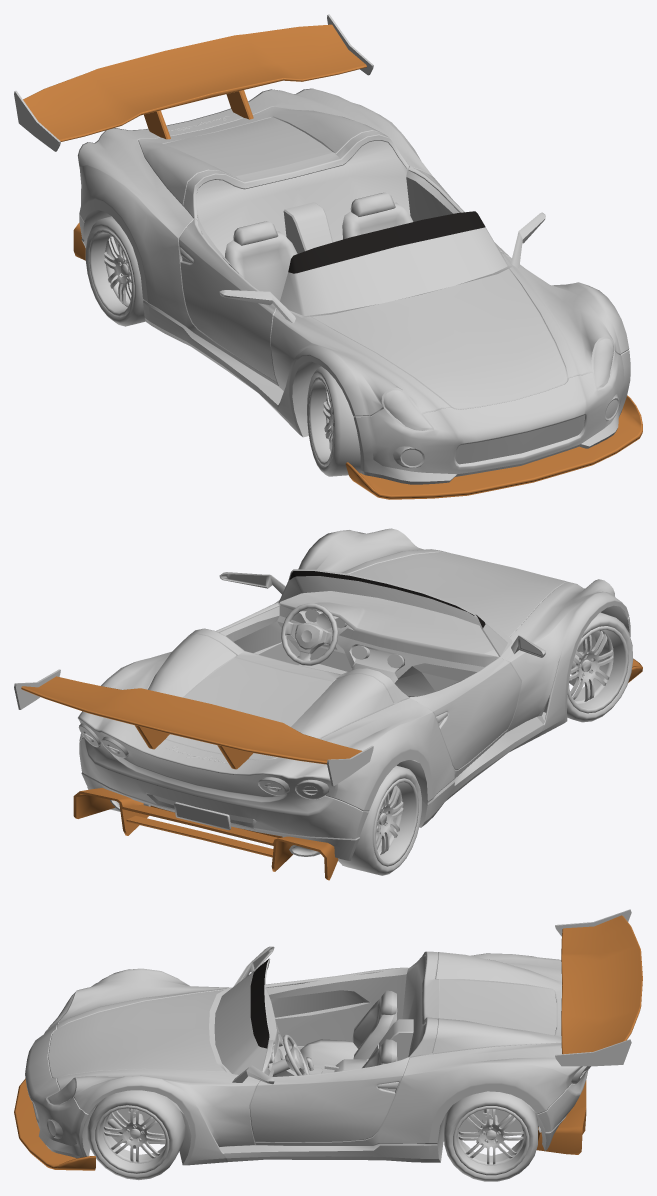
The model's file is auto.obj.
3 renders of one model, top to bottom at view 1: azimuth 30°, elevation 25°; view 2: azimuth 150°, elevation 25°; view 3: azimuth 270°, elevation 25°, orthographic. The views are drawn at different scales.
Parts seen in each view (by area): view 1: node_id107_mesh_id108, node_id100_mesh_id101, node_id125_mesh_id126, node_id129_mesh_id130, node_id55_mesh_id56, node_id44_mesh_id45, node_id109_mesh_id110, node_id123_mesh_id124, node_id93_mesh_id94, node_id113_mesh_id114, node_id90_mesh_id91, node_id86_mesh_id87 (+4 smaller); view 2: node_id107_mesh_id108, node_id100_mesh_id101, node_id125_mesh_id126, node_id129_mesh_id130, node_id57_mesh_id58, node_id109_mesh_id110, node_id86_mesh_id87, node_id93_mesh_id94, node_id46_mesh_id47, node_id127_mesh_id128, node_id97_mesh_id98, node_id102_mesh_id103 (+5 smaller); view 3: node_id107_mesh_id108, node_id129_mesh_id130, node_id100_mesh_id101, node_id125_mesh_id126, node_id109_mesh_id110, node_id44_mesh_id45, node_id79_mesh_id80, node_id72_mesh_id73, node_id55_mesh_id56, node_id76_mesh_id77, node_id83_mesh_id84, node_id102_mesh_id103 (+7 smaller).
Boxes of the visible parts, x1,y1,x2,y2 form: node_id107_mesh_id108: (77, 88, 630, 484); node_id100_mesh_id101: (23, 24, 366, 141); node_id125_mesh_id126: (163, 117, 613, 430); node_id129_mesh_id130: (196, 140, 459, 279); node_id55_mesh_id56: (345, 395, 642, 499); node_id44_mesh_id45: (225, 192, 413, 300); node_id109_mesh_id110: (81, 106, 615, 467); node_id123_mesh_id124: (288, 211, 485, 273); node_id93_mesh_id94: (89, 229, 134, 317); node_id113_mesh_id114: (455, 415, 584, 464); node_id90_mesh_id91: (315, 366, 361, 476); node_id86_mesh_id87: (309, 376, 334, 466); node_id107_mesh_id108: (78, 528, 630, 838); node_id100_mesh_id101: (21, 676, 361, 769); node_id125_mesh_id126: (184, 569, 507, 726); node_id129_mesh_id130: (220, 605, 496, 697); node_id57_mesh_id58: (73, 788, 338, 880); node_id109_mesh_id110: (81, 551, 629, 860); node_id86_mesh_id87: (567, 626, 628, 713); node_id93_mesh_id94: (373, 778, 418, 866); node_id46_mesh_id47: (281, 603, 338, 665); node_id127_mesh_id128: (78, 723, 328, 799); node_id97_mesh_id98: (338, 765, 416, 875); node_id102_mesh_id103: (14, 669, 373, 786); node_id107_mesh_id108: (25, 951, 588, 1165); node_id129_mesh_id130: (265, 956, 425, 1076); node_id100_mesh_id101: (561, 915, 642, 1054); node_id125_mesh_id126: (47, 958, 556, 1104); node_id109_mesh_id110: (29, 952, 566, 1164); node_id44_mesh_id45: (300, 990, 397, 1068); node_id79_mesh_id80: (453, 1106, 529, 1175); node_id72_mesh_id73: (95, 1105, 169, 1173); node_id55_mesh_id56: (14, 1078, 95, 1170); node_id76_mesh_id77: (87, 1090, 185, 1180); node_id83_mesh_id84: (444, 1091, 537, 1181); node_id102_mesh_id103: (555, 909, 631, 1066).
Bounding box in the file's own units: 0.512 × 0.2669 × 1.01.
